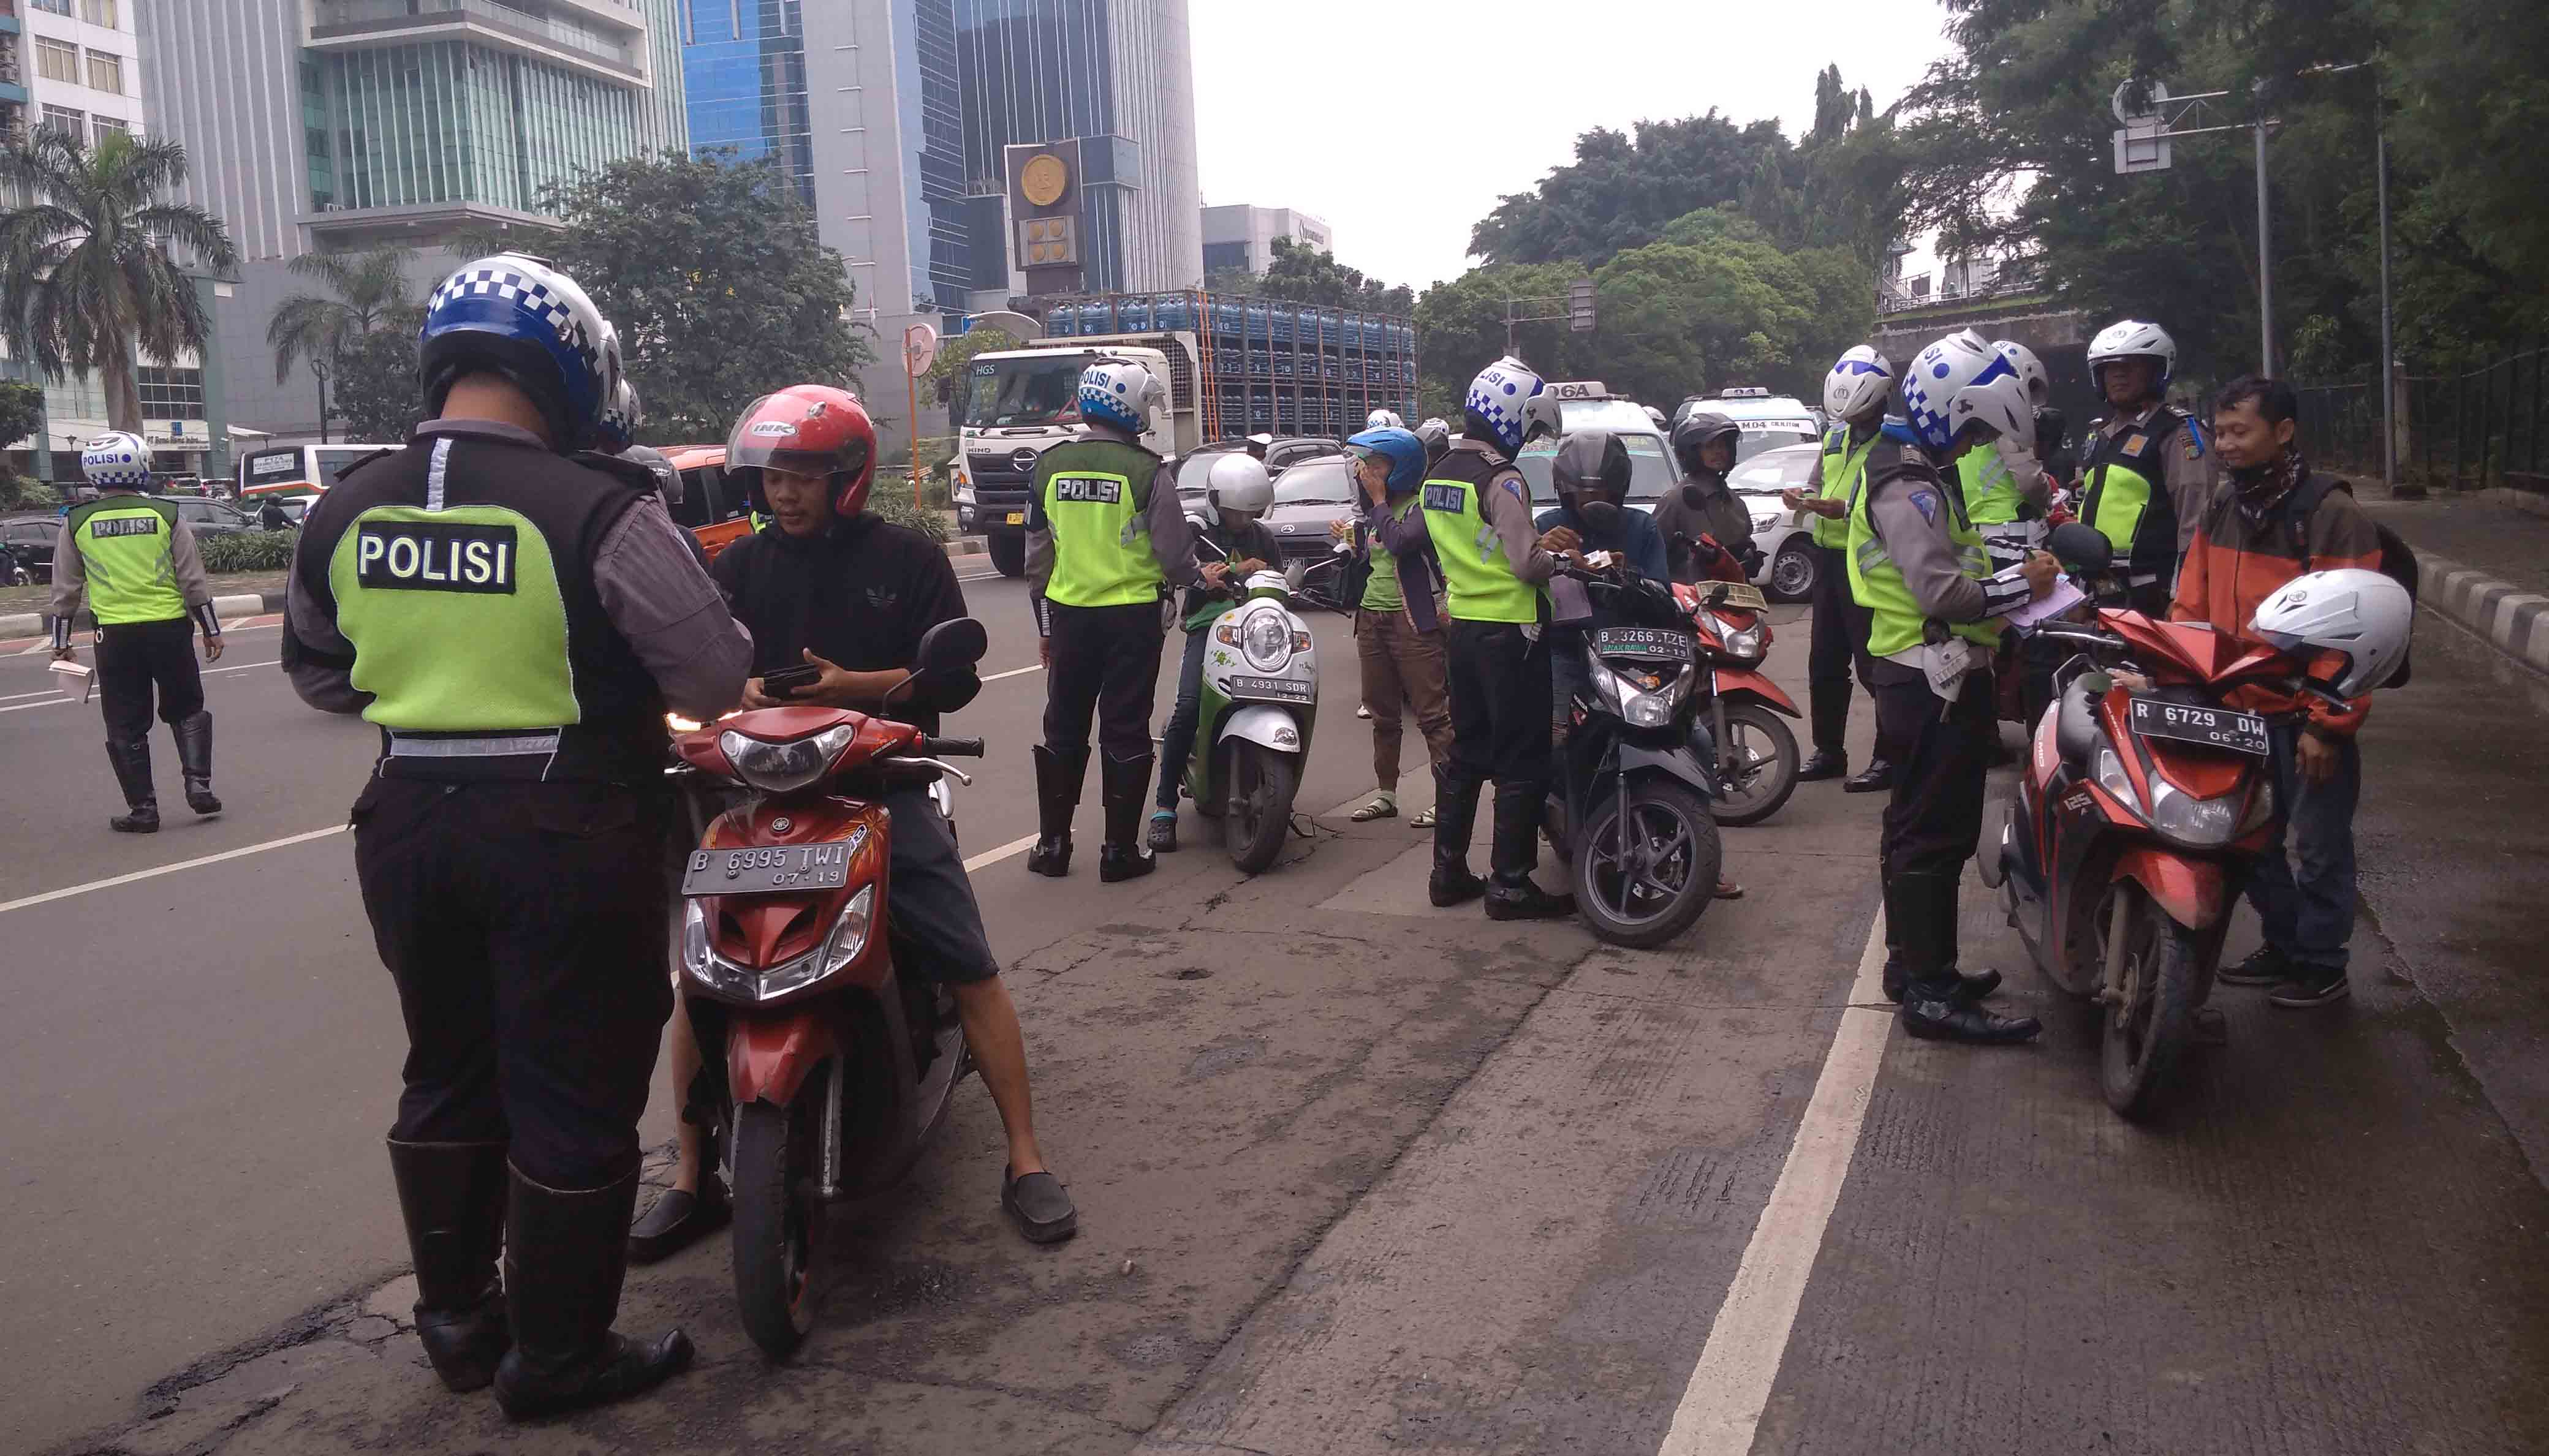plate: (694, 831, 831, 889), (2127, 699, 2271, 745), (1594, 632, 1685, 657), (1237, 672, 1305, 703)
